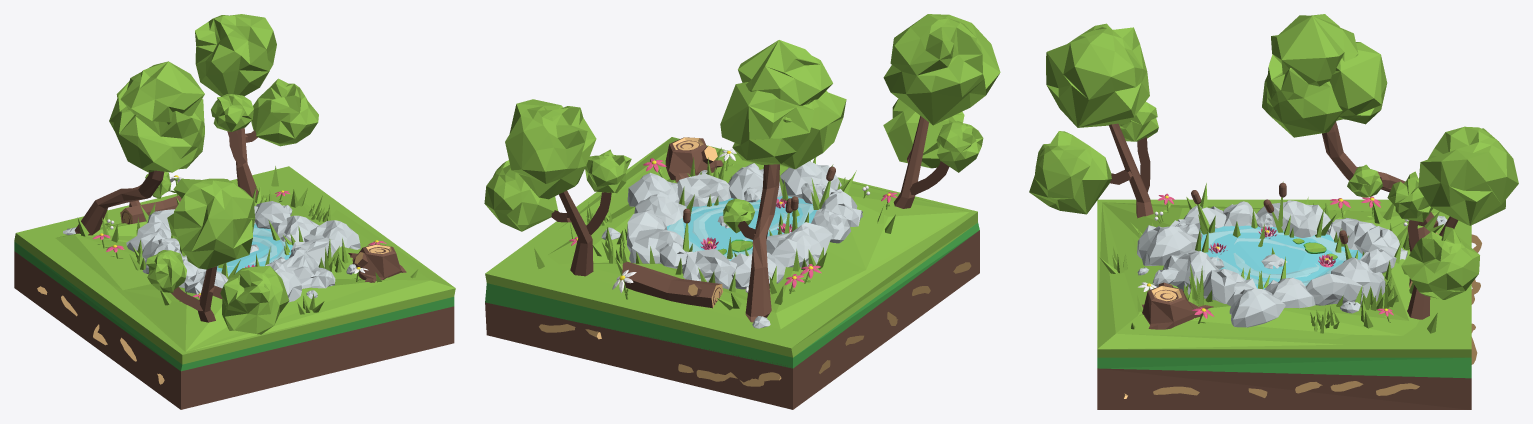
3 views of the same model, side by side, from view 1: azimuth 30°, elevation 25°; view 2: azimuth 150°, elevation 25°; view 3: azimuth 270°, elevation 25° (orthographic). The views are drawn at different scales.
Parts seen in each view (by area): view 1: Node; view 2: Node; view 3: Node.
Boxes of the visible parts, box(x1,y1,x2,y2) form: Node: box(14, 14, 455, 409); Node: box(484, 14, 1000, 409); Node: box(1029, 14, 1518, 409).
Bounding box in the file's own units: 0.9822 × 0.8031 × 1.23.
